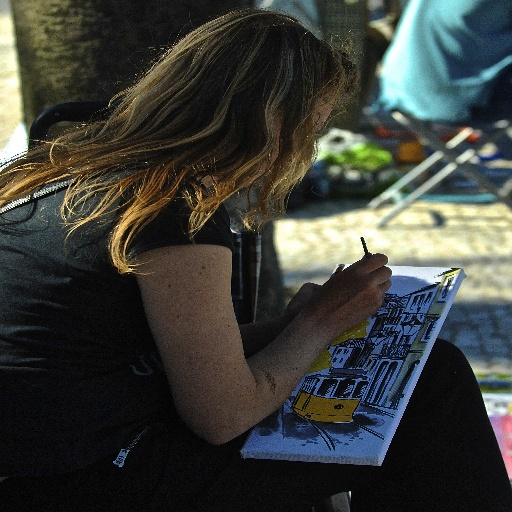hand: (314, 253, 391, 328), (281, 280, 321, 325)
